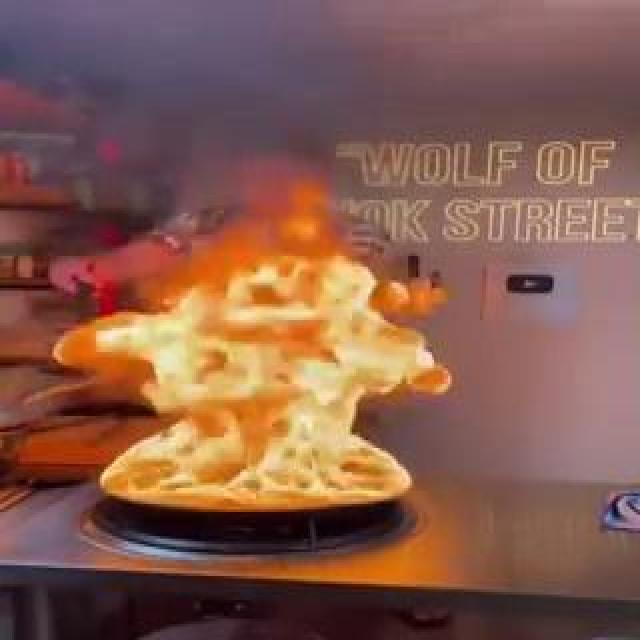Fire: (63, 161, 421, 519)
